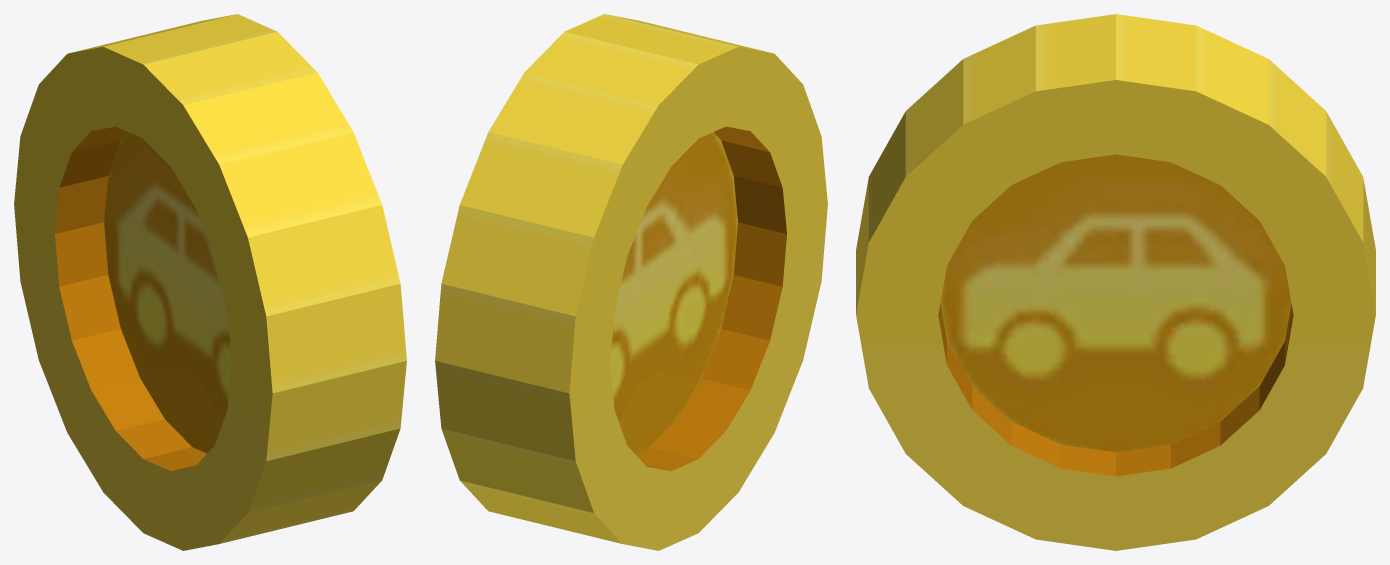
The model's file is PropCoin.fbx.
3 views of the same model, side by side, from view 1: azimuth 30°, elevation 25°; view 2: azimuth 150°, elevation 25°; view 3: azimuth 270°, elevation 25° (orthographic).
Parts seen in each view (by area): view 1: item; view 2: item; view 3: item.
Part boxes in pixels (x1=…): item: x1=14, y1=14, x2=406, y2=550; item: x1=435, y1=14, x2=827, y2=550; item: x1=856, y1=14, x2=1375, y2=550.
Size of the model in its own units: 36 by 120 by 120.
